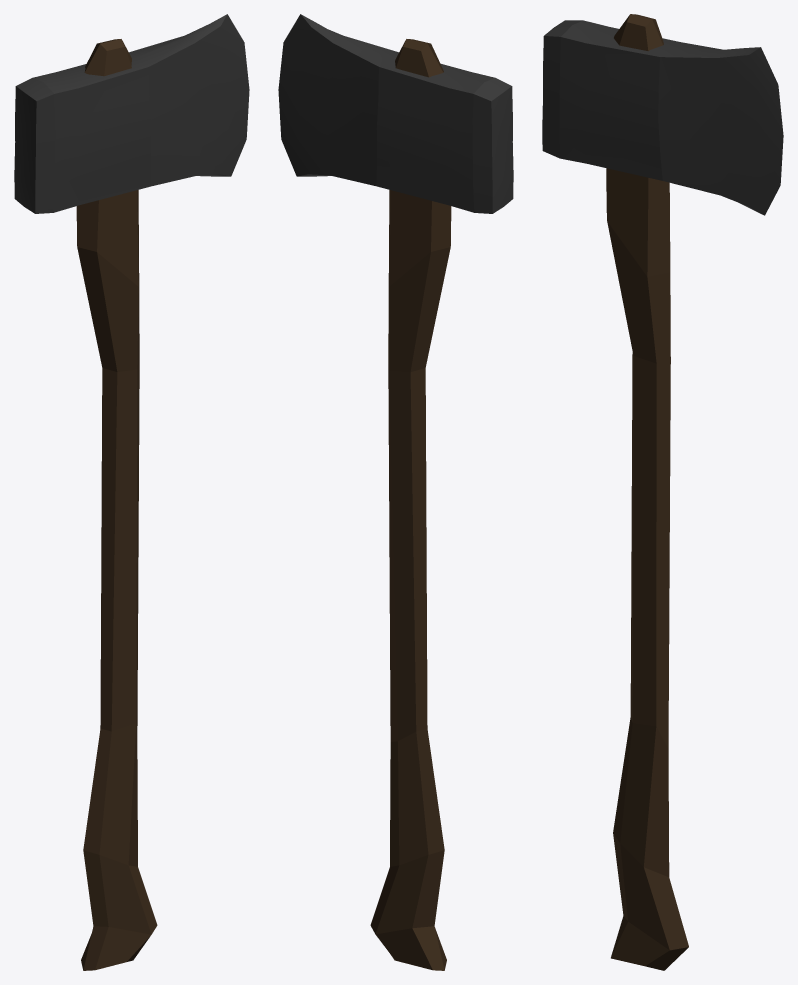
The model's file is Axe3 1.fbx.
3 renders of one model, left to right at view 1: azimuth 30°, elevation 25°; view 2: azimuth 150°, elevation 25°; view 3: azimuth 330°, elevation 25°, orthographic. The views are drawn at different scales.
Visible parts, largest first — view 1: Handle, Cube; view 2: Handle, Cube; view 3: Handle, Cube.
Part boxes in pixels (x1,y1,x2,y2): Handle: [76, 39, 157, 970]; Cube: [14, 14, 249, 213]; Handle: [370, 39, 451, 970]; Cube: [278, 14, 513, 213]; Handle: [606, 14, 688, 970]; Cube: [542, 20, 783, 215].
Bounding box in the file's own units: 112 × 435 × 21.29.
